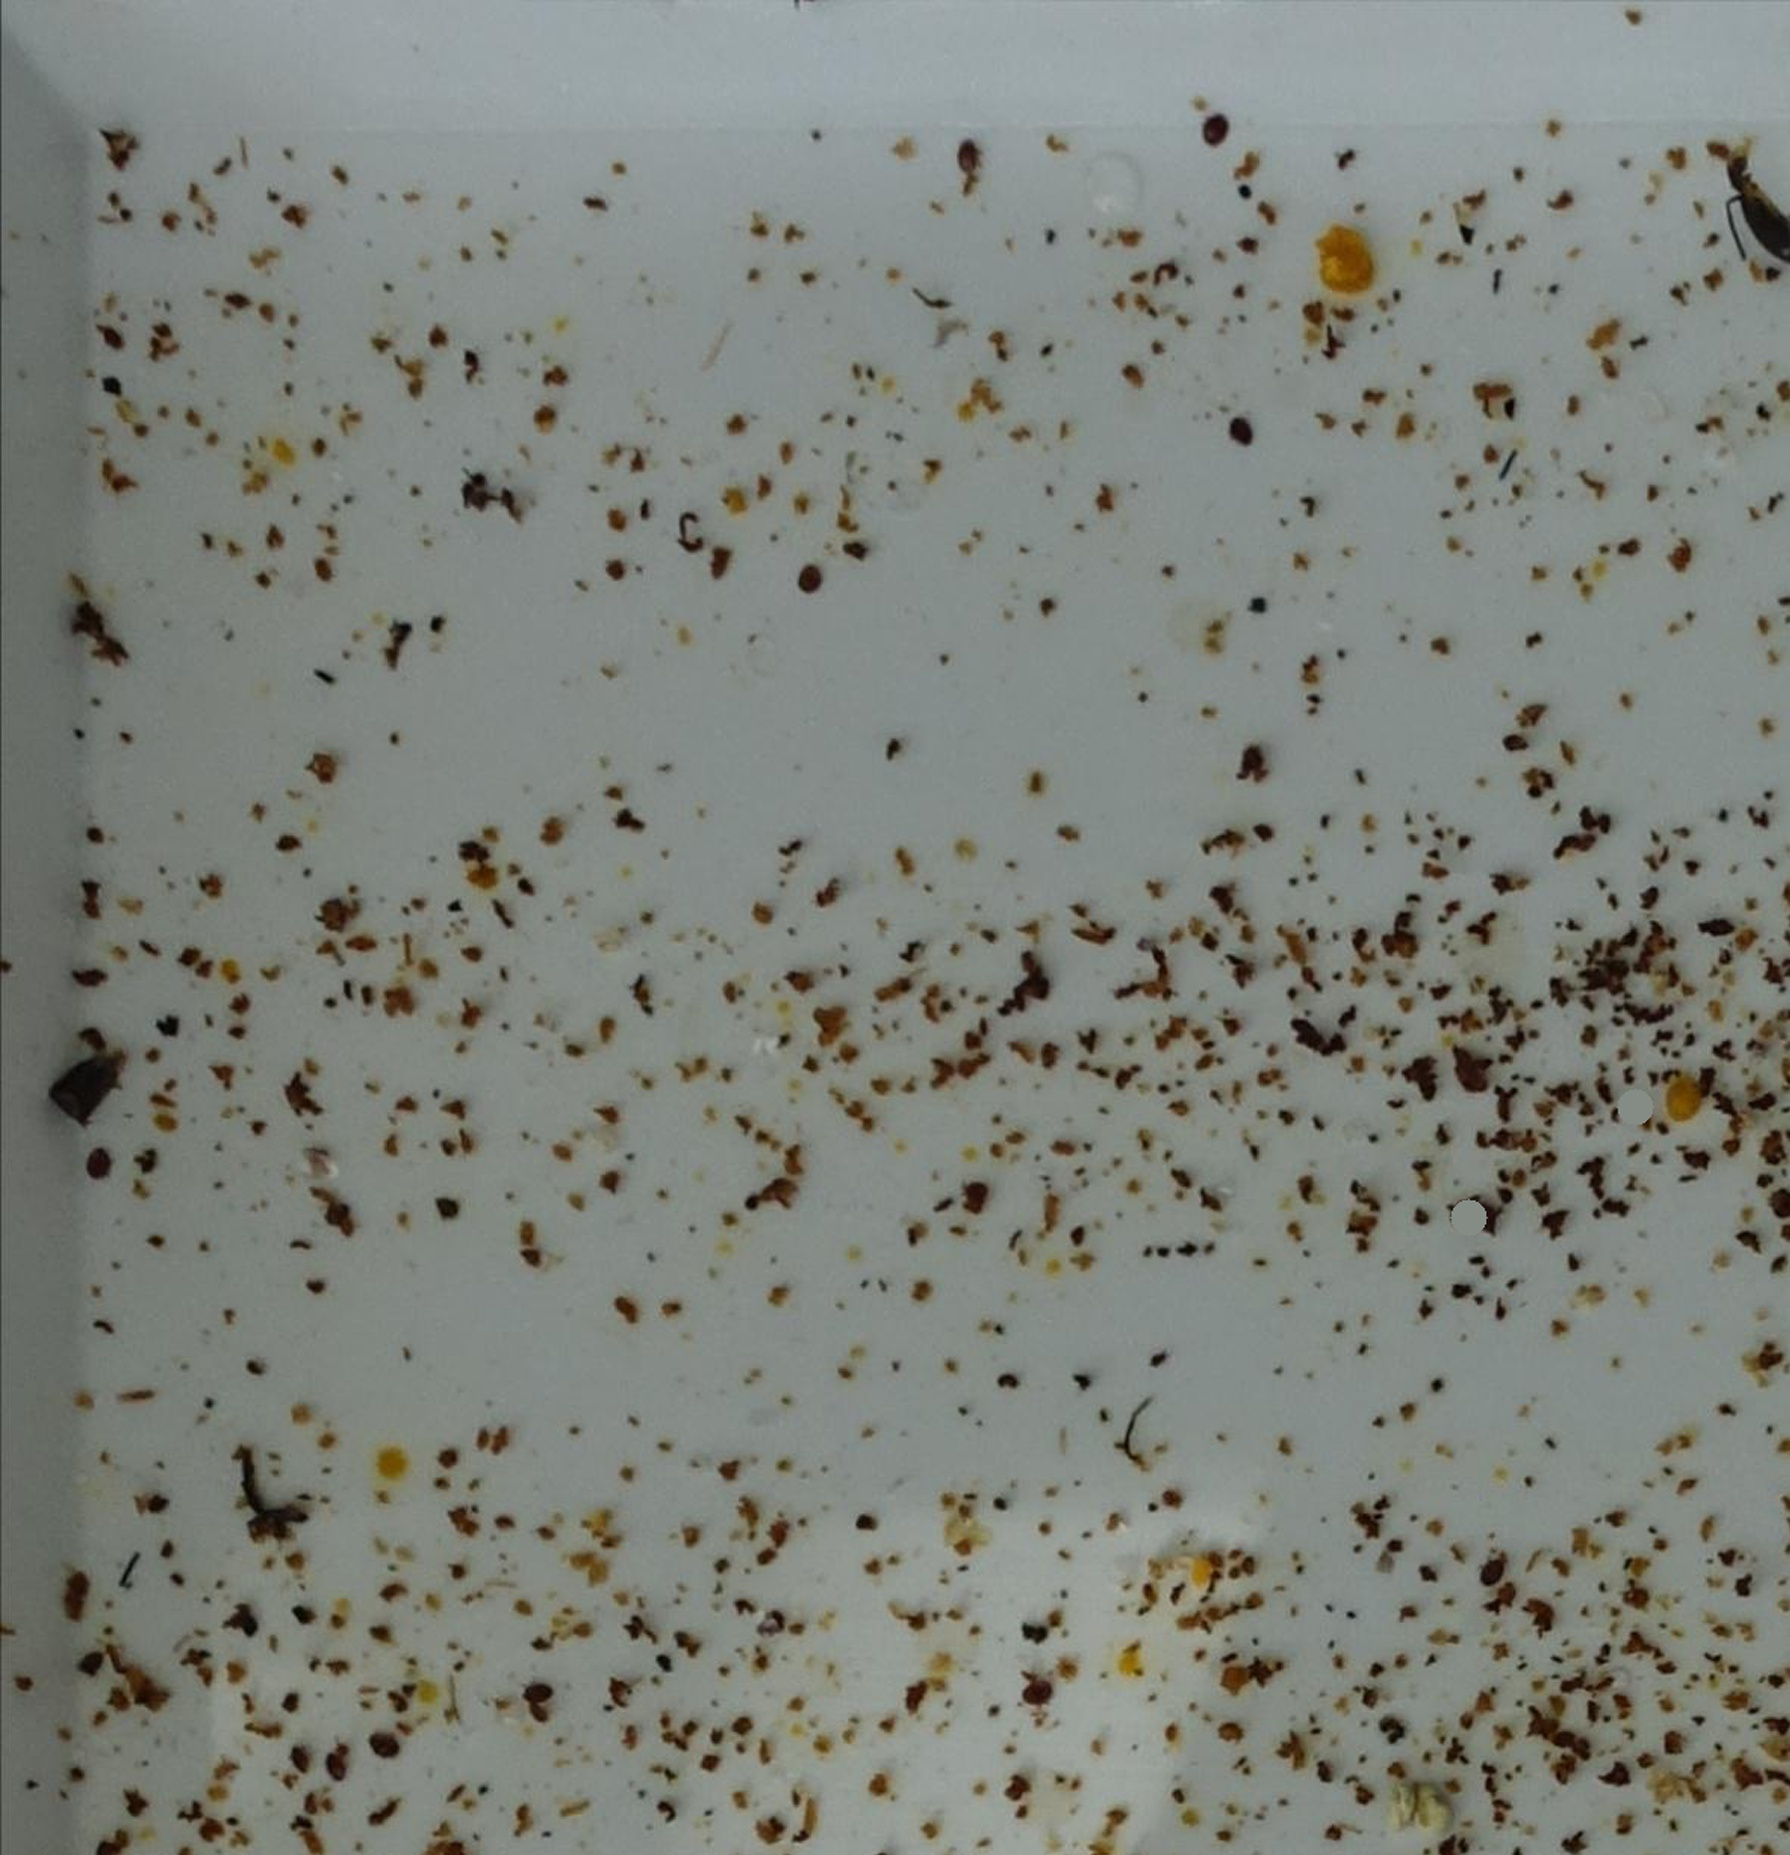Varroa: (277, 1739, 320, 1784), (947, 134, 990, 177), (1219, 411, 1262, 454), (83, 1149, 114, 1181), (1196, 118, 1225, 151), (523, 1684, 551, 1716), (368, 1732, 396, 1762), (1022, 1679, 1051, 1708), (796, 571, 825, 600), (328, 1756, 356, 1784), (1480, 1560, 1507, 1590)
